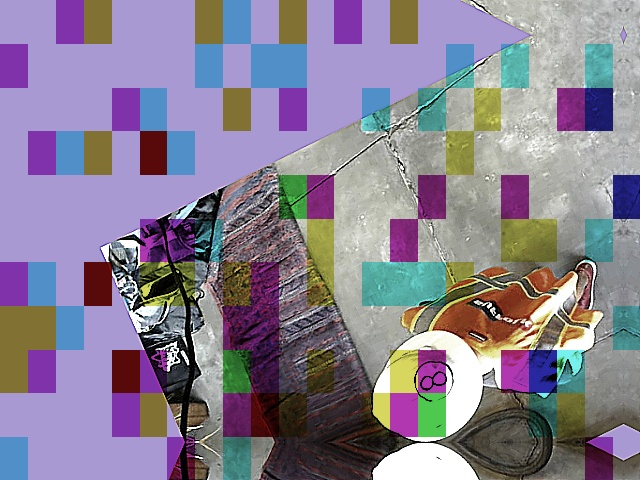eight: (408, 351, 458, 404)
